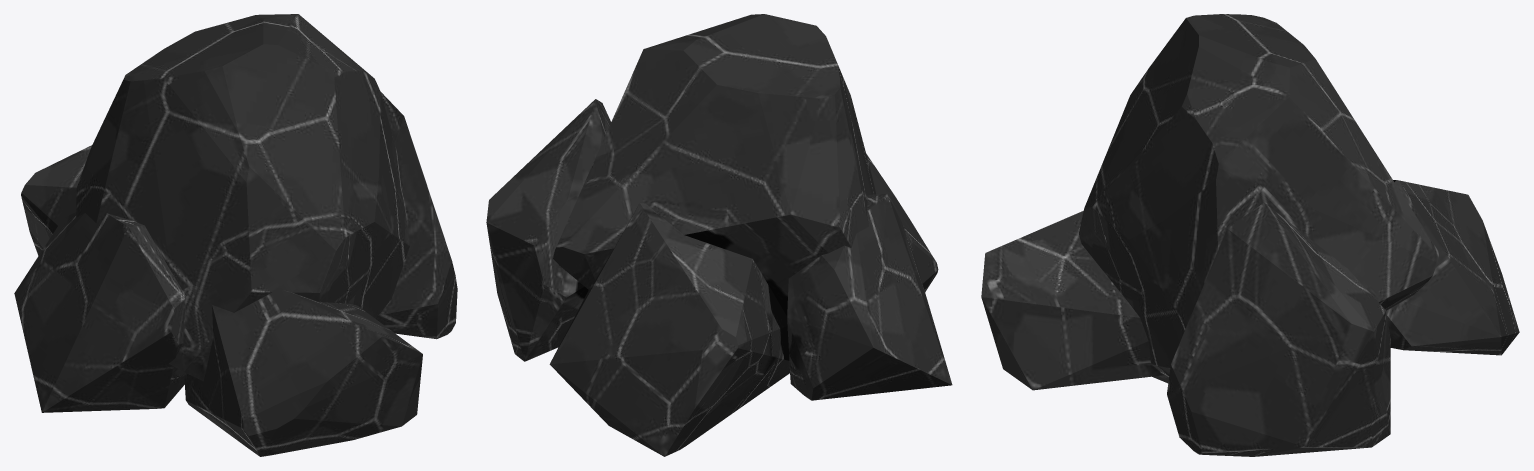
The model's file is res_coal.glb.
3 renders of one model, left to right at view 1: azimuth 30°, elevation 25°; view 2: azimuth 150°, elevation 25°; view 3: azimuth 270°, elevation 25°, orthographic. The views are drawn at different scales.
Parts seen in each view (by area): view 1: res_coal; view 2: res_coal; view 3: res_coal.
Boxes of the visible parts, box(x1,y1,x2,y2) form: res_coal: box(14, 14, 457, 456); res_coal: box(486, 14, 952, 456); res_coal: box(981, 14, 1519, 456).
Size of the model in its own units: 0.7898 by 0.5793 by 0.86.
Materials: 1 (1 with a texture image).
